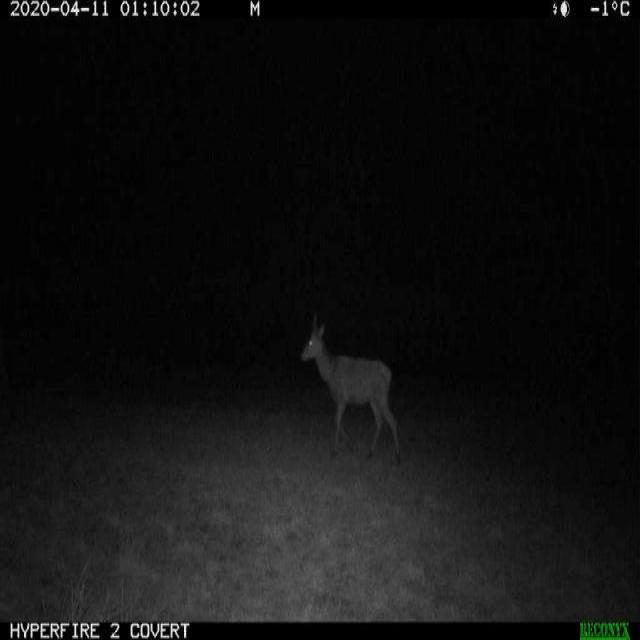deer: (290, 305, 400, 470), (17, 277, 108, 432)
